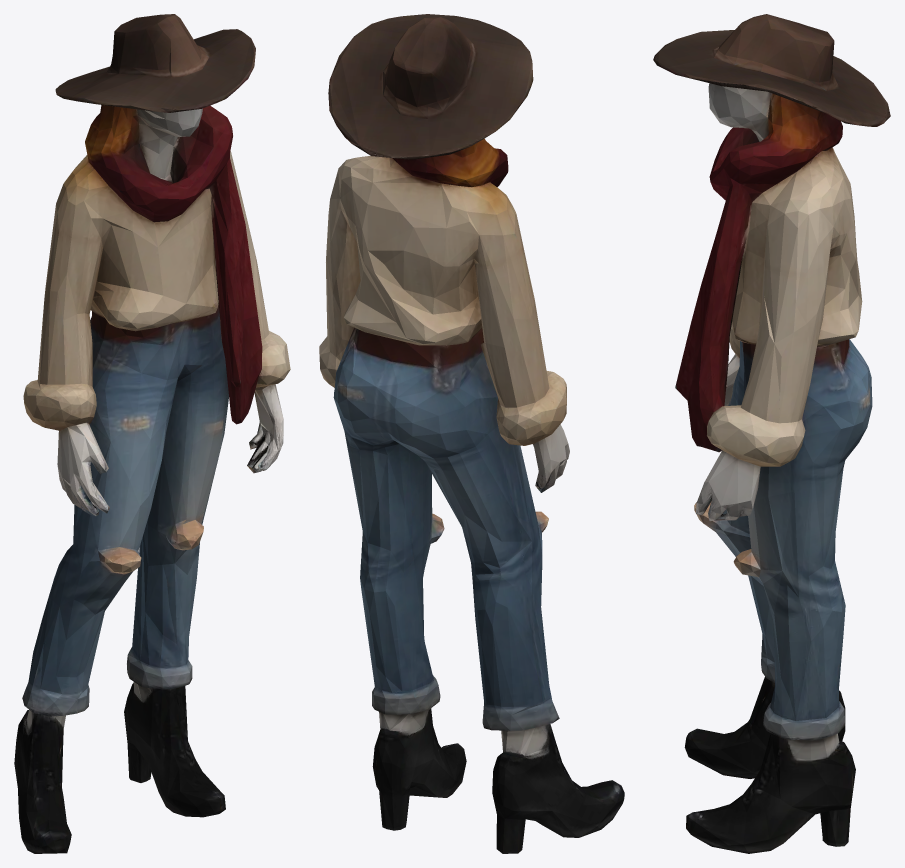
The model's file is giftbox_beige_bow_2.glb.
3 renders of one model, left to right at view 1: azimuth 30°, elevation 25°; view 2: azimuth 150°, elevation 25°; view 3: azimuth 270°, elevation 25°, orthographic. The views are drawn at different scales.
Visible parts, largest first — view 1: geometry_0; view 2: geometry_0; view 3: geometry_0.
Boxes of the visible parts, bbox=[...] form: geometry_0: bbox=[14, 14, 290, 853]; geometry_0: bbox=[319, 14, 624, 853]; geometry_0: bbox=[653, 14, 890, 853].
Bounding box in the file's own units: 0.3617 × 0.9996 × 0.2612.
Materials: 1 (1 with a texture image).
